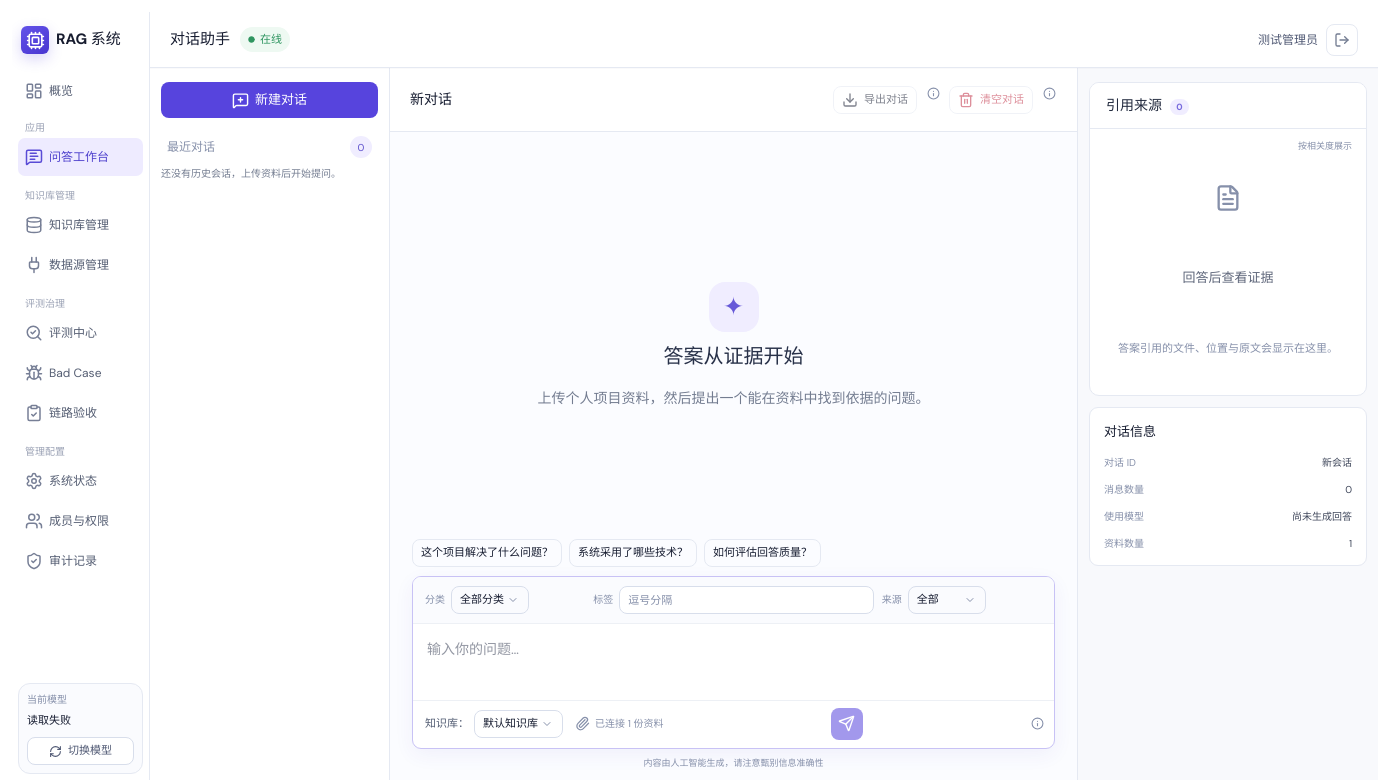
问候直接回复，不展示证据、查询性能与技术抽屉
In the text box named "向知识库提问": (734, 658) [413,624,1054,694], type "你好，在吗"
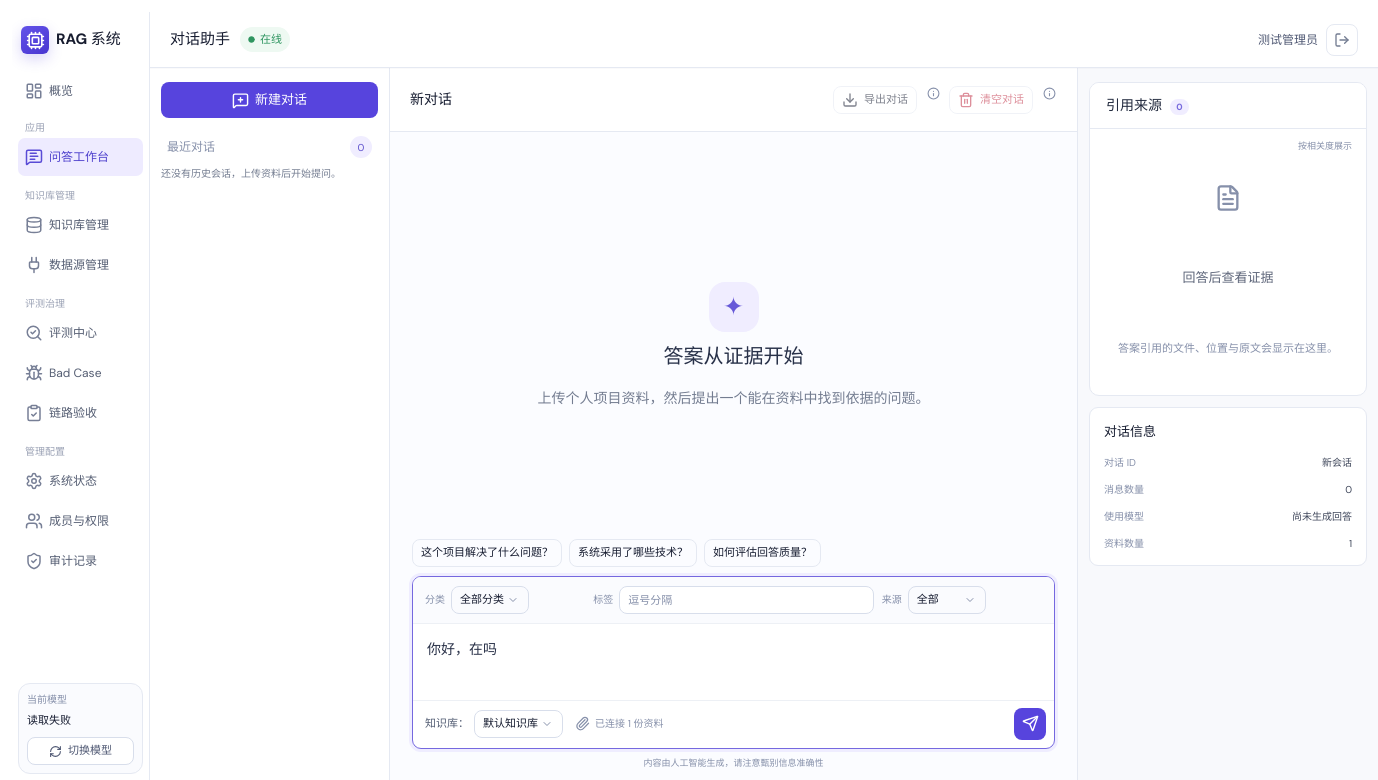
Click the button named "提问": (1030, 724) [1014,708,1046,740]
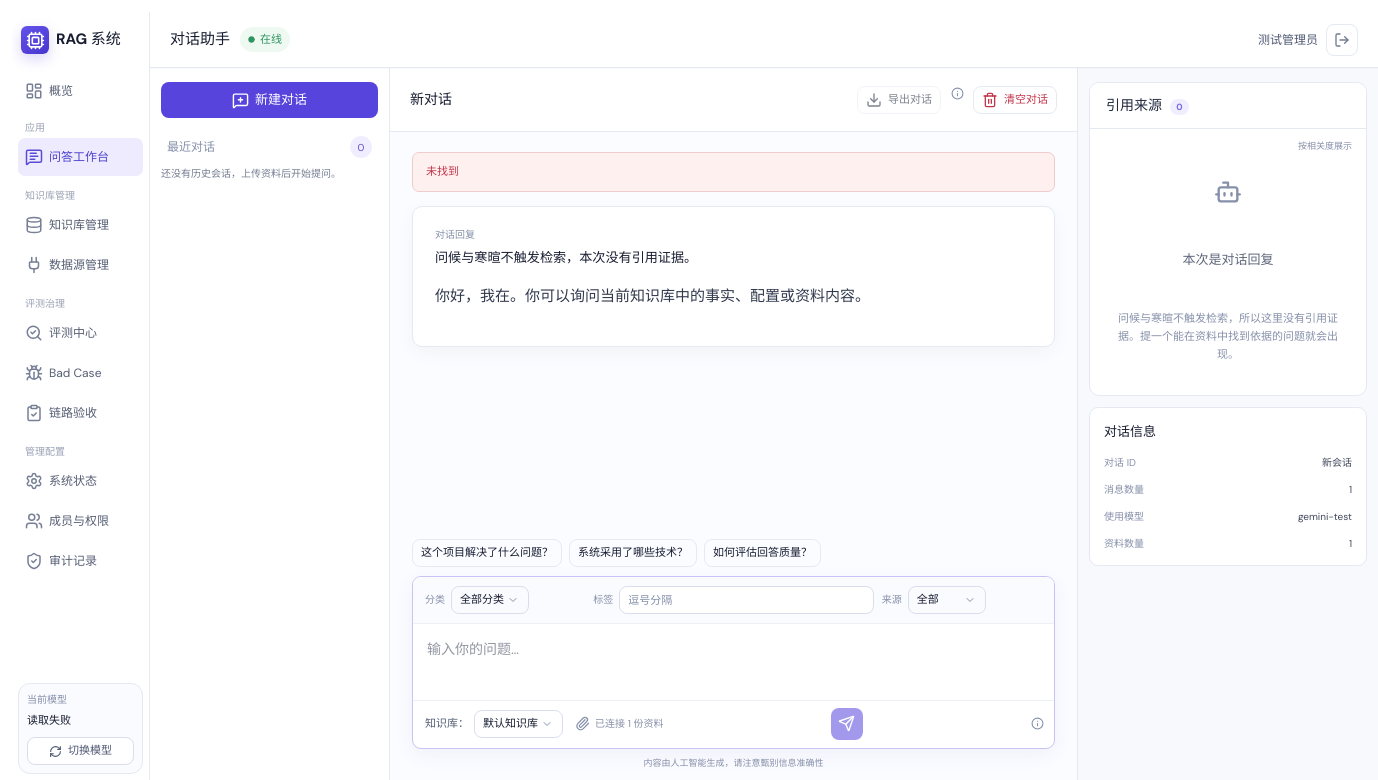
Expected: the text "你好，我在。你可以询问当前知识库中的事实、配置或资料内容。" is shown, [435,286,870,306]
Expected: the text "对话回复" is shown, [435,228,475,241]
Expected: the text "本次是对话回复" is shown, [1182,250,1274,270]
